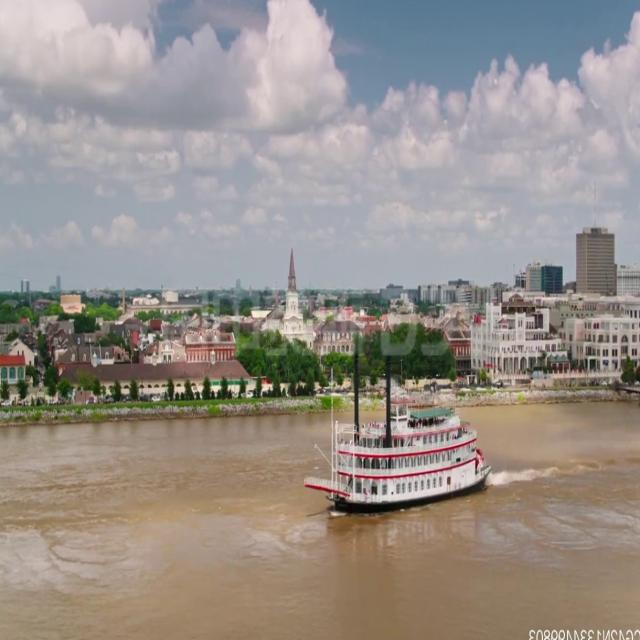passenger ship: (308, 395, 492, 517)
